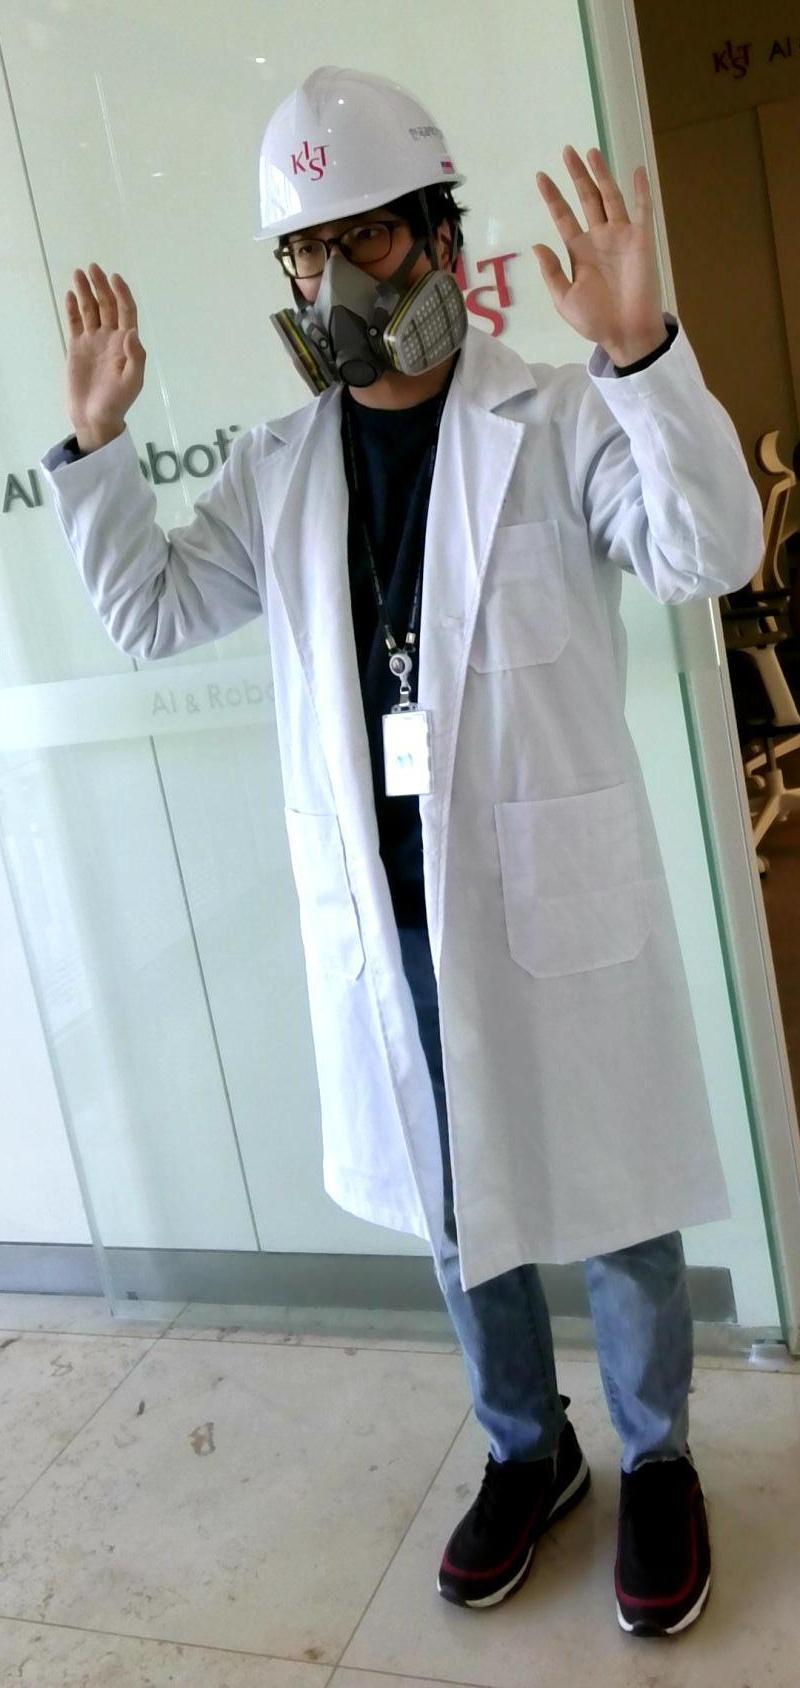lab_coat: (273, 405, 680, 1230)
